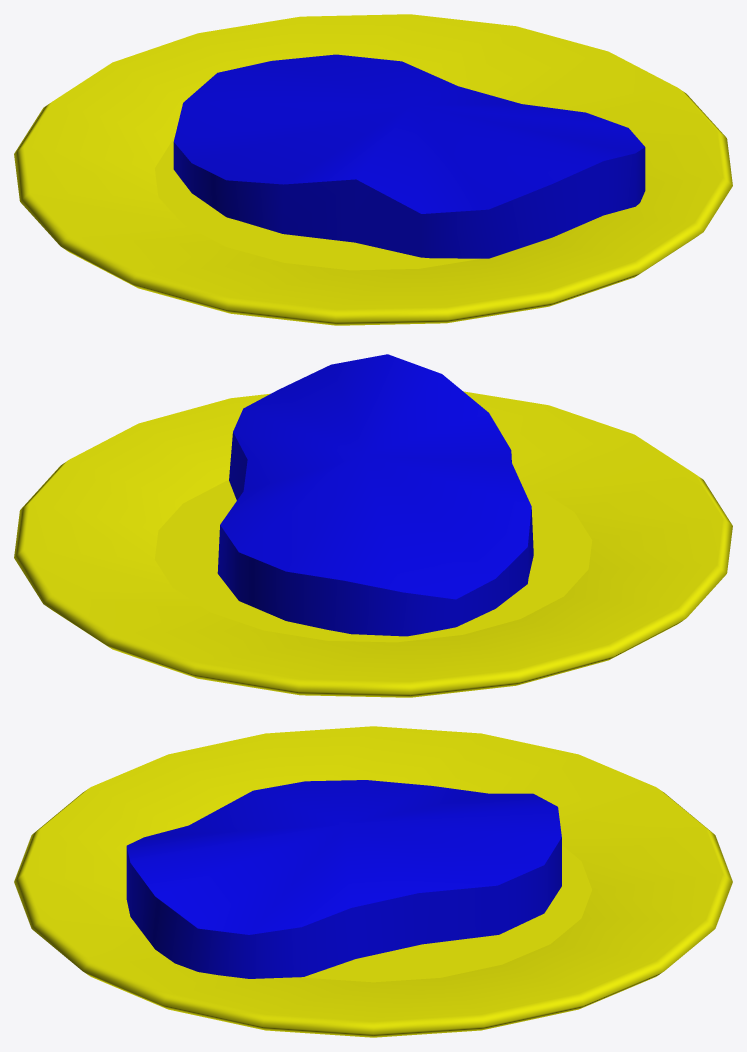
The model's file is KitchenSteak1.fbx.
The picture shows the model from 3 angles, top to bottom: view 1: azimuth 30°, elevation 25°; view 2: azimuth 150°, elevation 25°; view 3: azimuth 270°, elevation 25°; orthographic projection.
Visible parts, largest first — view 1: Steak1; view 2: Steak1; view 3: Steak1.
Part boxes in pixels (<box>): Steak1: <box>14,14,732,325</box>; Steak1: <box>14,354,732,697</box>; Steak1: <box>14,726,732,1037</box>.
Size of the model in its own units: 27.2 by 4.74 by 27.2.
